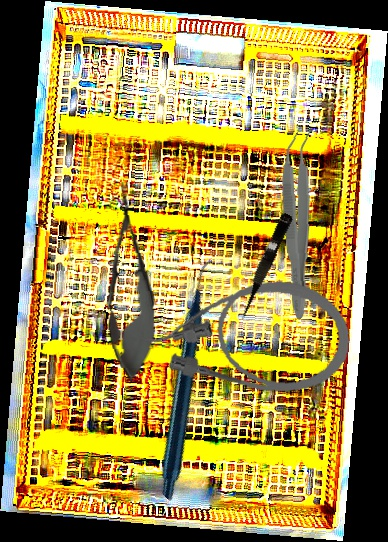Cannula: (134, 267, 356, 399)
Handpiece: (67, 257, 313, 503)
Micro Scissor: (97, 180, 161, 384), (233, 210, 294, 323)
Tissue Forceps: (280, 128, 319, 320)
